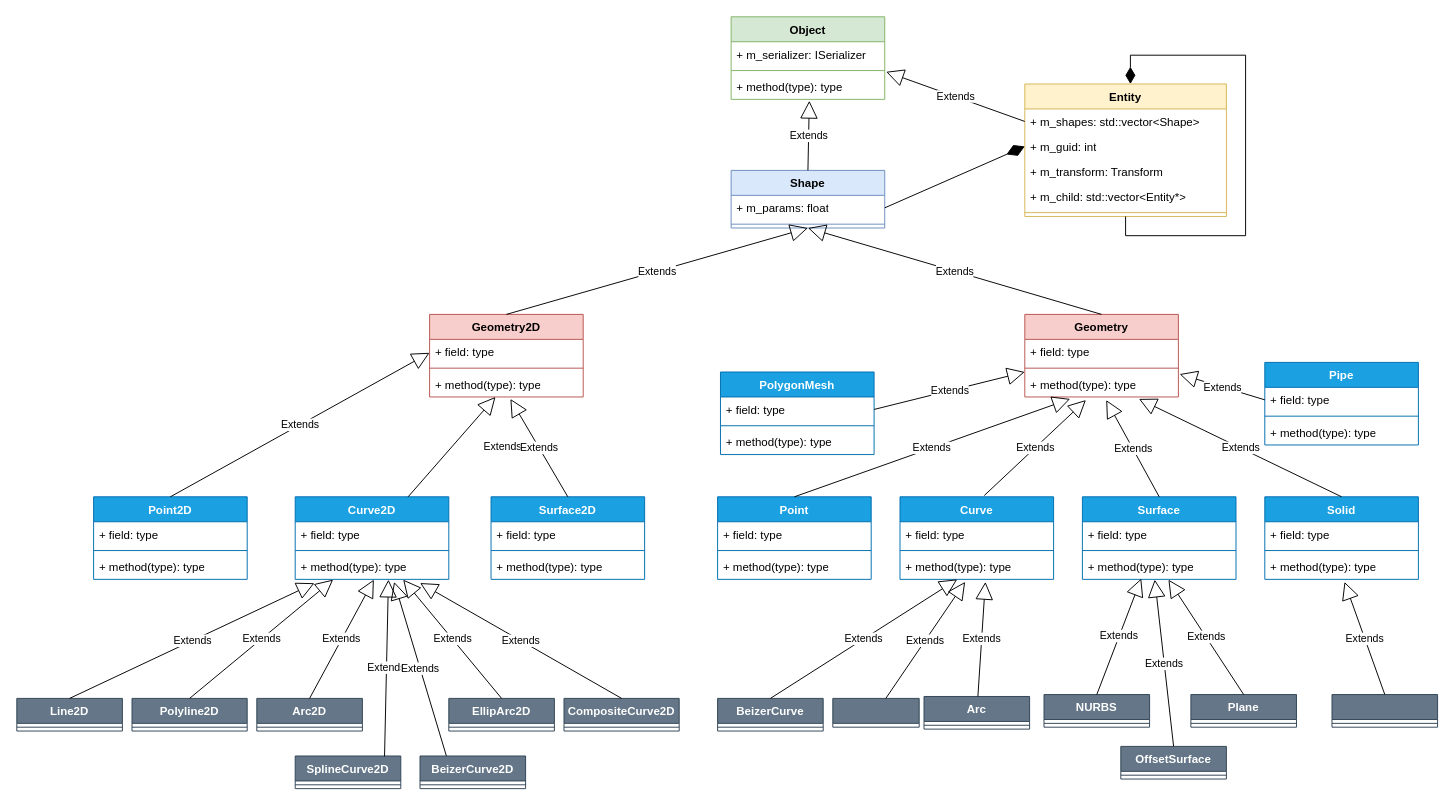
The diagram is 1454 pixels wide and 805 high, and some of its shapes have lost their labels. The centre of each missing label's shape, as x and y in pixels:
"Polyline" goes at point 875,712.
"Primitive" goes at point 1384,710.
